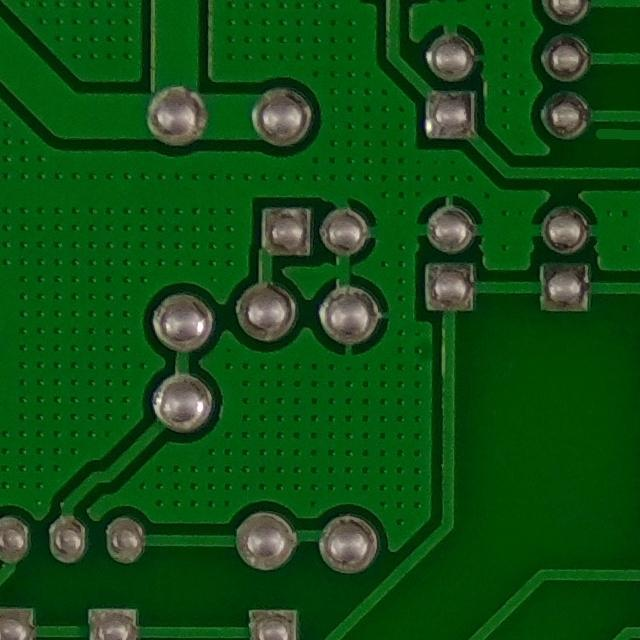spurious_copper: (589, 123, 640, 154)
